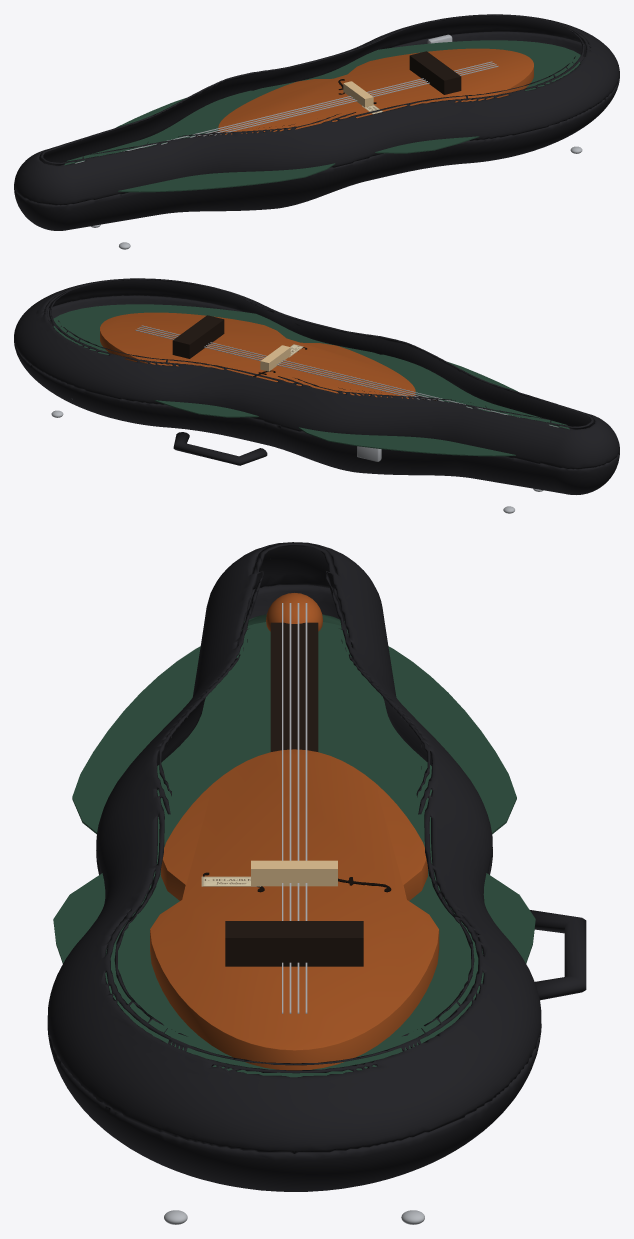
Rendered from violin_case.fbx.
3 renders of one model, top to bottom at view 1: azimuth 30°, elevation 25°; view 2: azimuth 150°, elevation 25°; view 3: azimuth 270°, elevation 25°, orthographic. The views are drawn at different scales.
Parts seen in each view (by area): view 1: Lid, violin_case; view 2: Lid, violin_case; view 3: Lid, violin_case.
Boxes of the visible parts, x1,y1,x2,y2 form: Lid: (14, 14, 619, 205); violin_case: (14, 31, 619, 249); Lid: (14, 278, 619, 469); violin_case: (14, 295, 619, 513); Lid: (47, 542, 541, 1153); violin_case: (47, 585, 586, 1224).
Size of the model in its own units: 0.6849 by 0.1112 by 0.2724.
